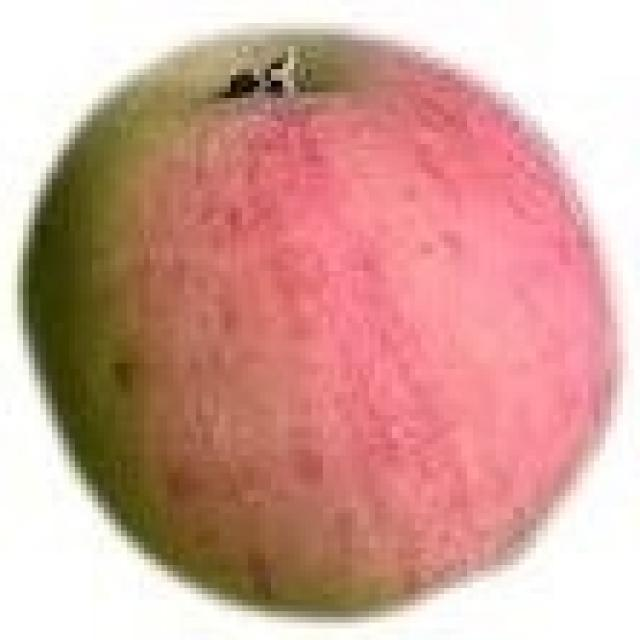75-_ripeness: (23, 28, 617, 609)
